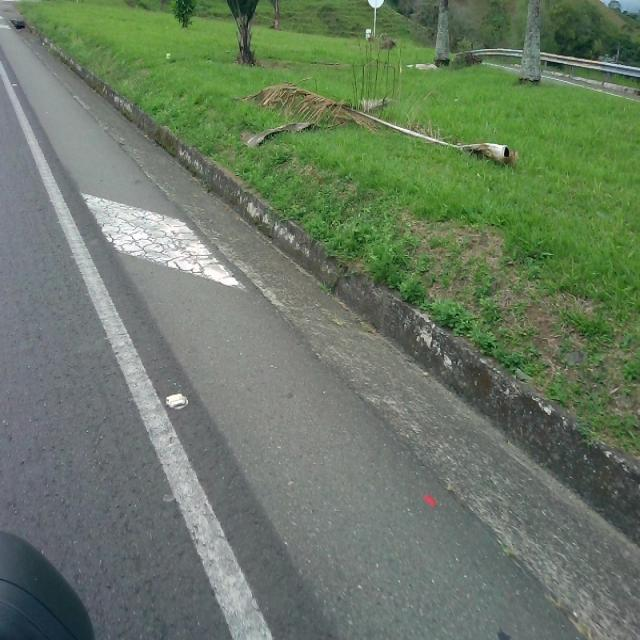DITCH: (2, 4, 638, 637)
